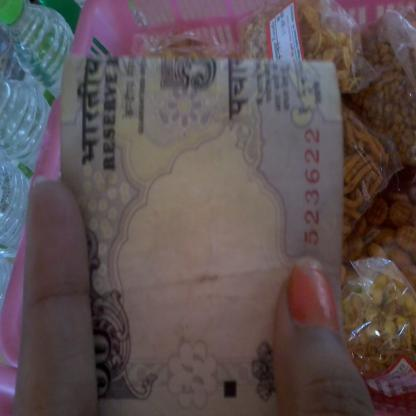Old50Front: (60, 54, 346, 416)
